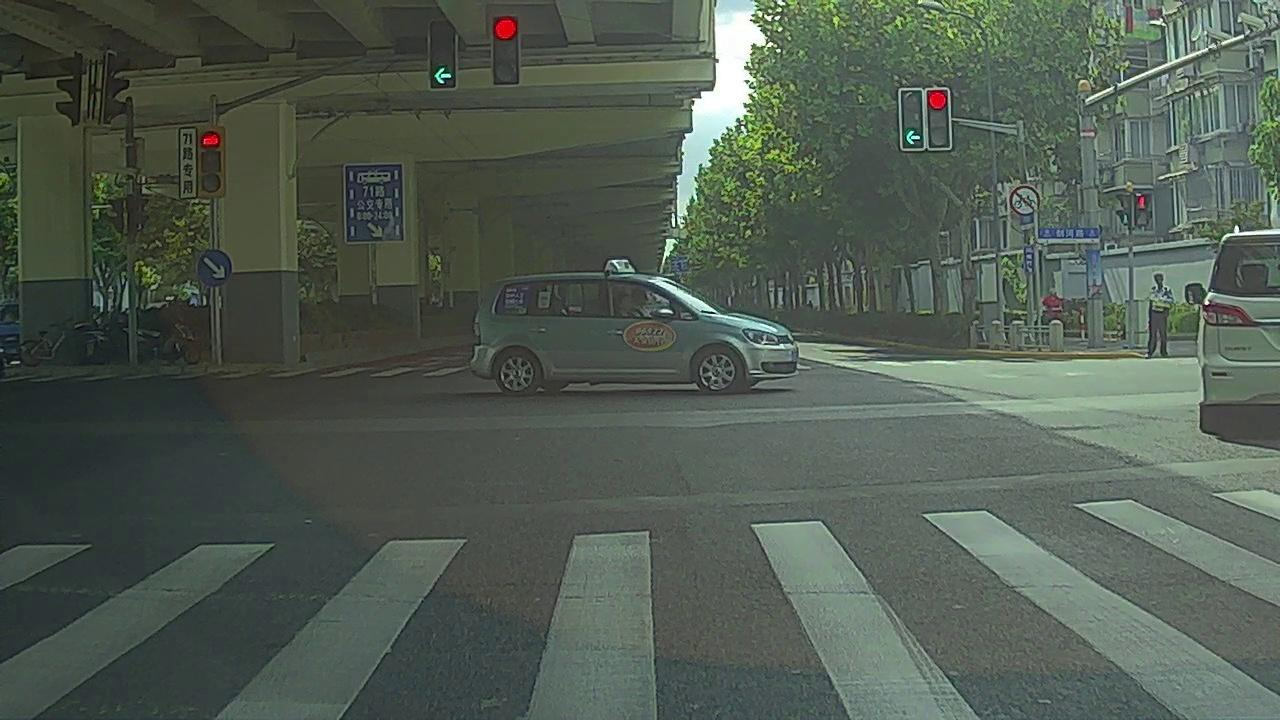traffic_light: (429, 21, 456, 88), (493, 16, 519, 85), (927, 90, 950, 149), (901, 90, 923, 149)
